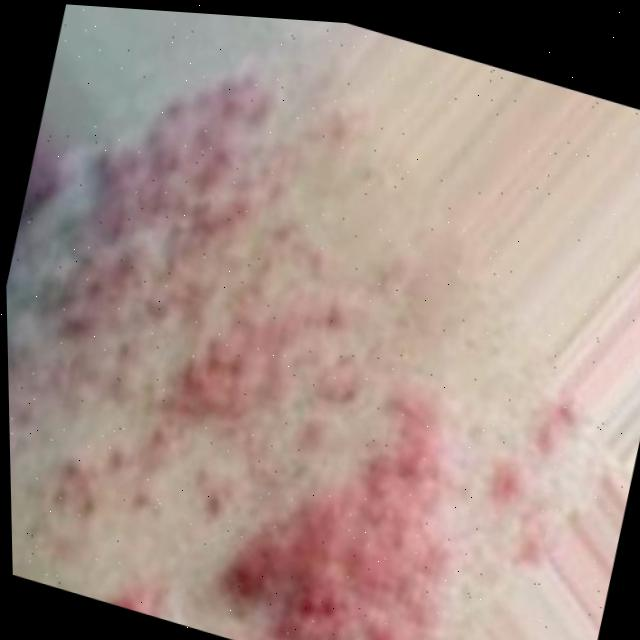Shingles: (0, 12, 629, 640)
